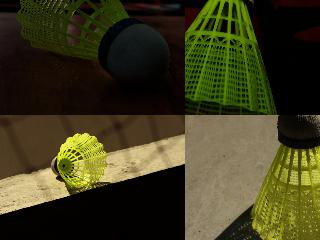shuttlecock: (16, 0, 171, 89), (185, 0, 279, 114), (251, 115, 319, 239), (51, 133, 107, 187)
